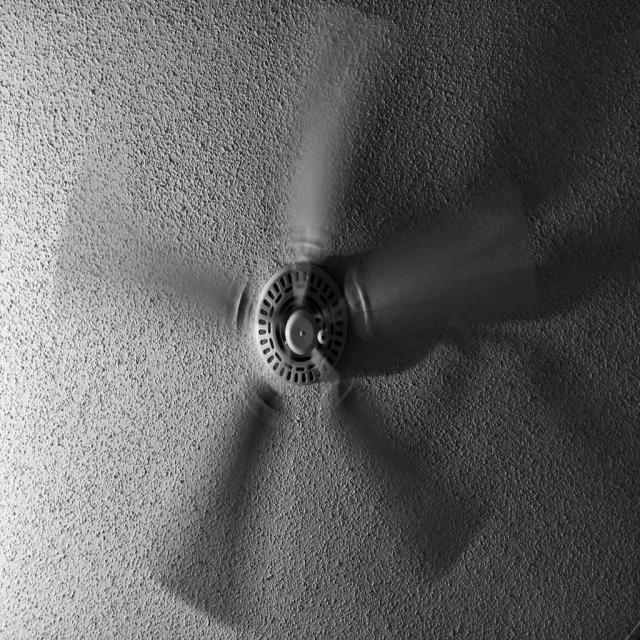fan_on: (66, 0, 560, 605)
